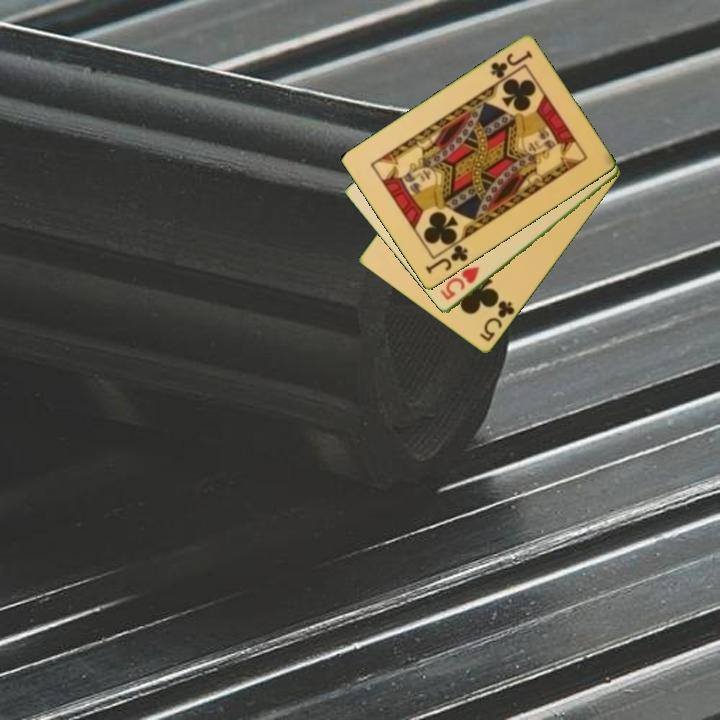5c: (476, 297, 518, 345)
5h: (437, 263, 482, 303)
Jc: (422, 241, 471, 278), (487, 47, 535, 82)
